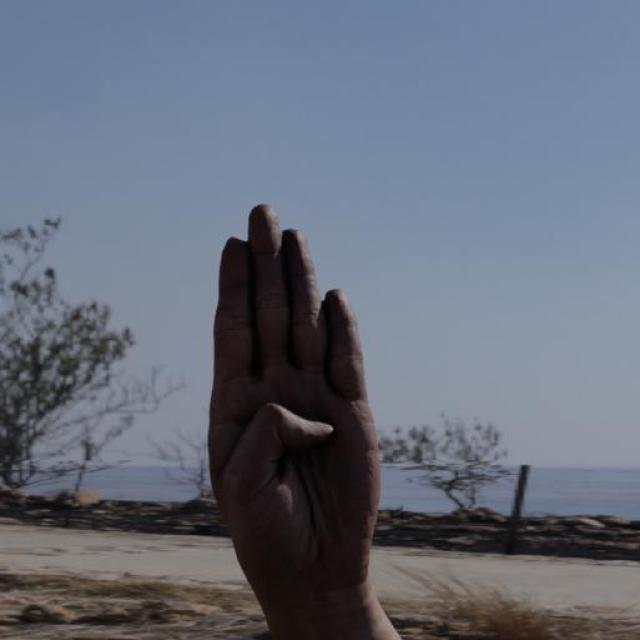B: (196, 200, 392, 608)
